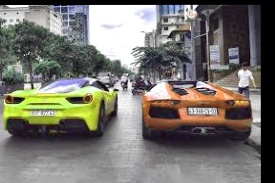Bien-so: (189, 106, 218, 115), (31, 110, 56, 116)
